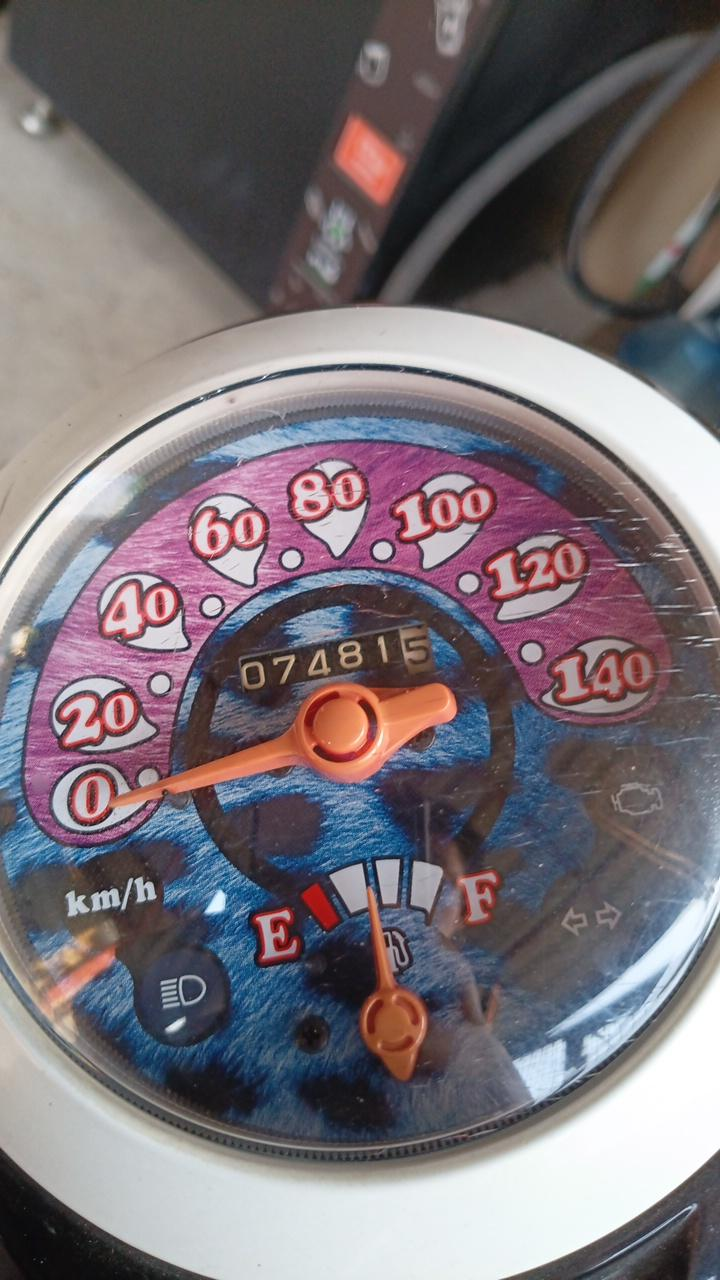0: (240, 660, 266, 690)
1: (376, 633, 389, 665)
4: (305, 648, 332, 678)
5: (404, 633, 430, 666)
7: (271, 653, 295, 685)
8: (337, 639, 363, 670)
odometer: (235, 621, 436, 697)
